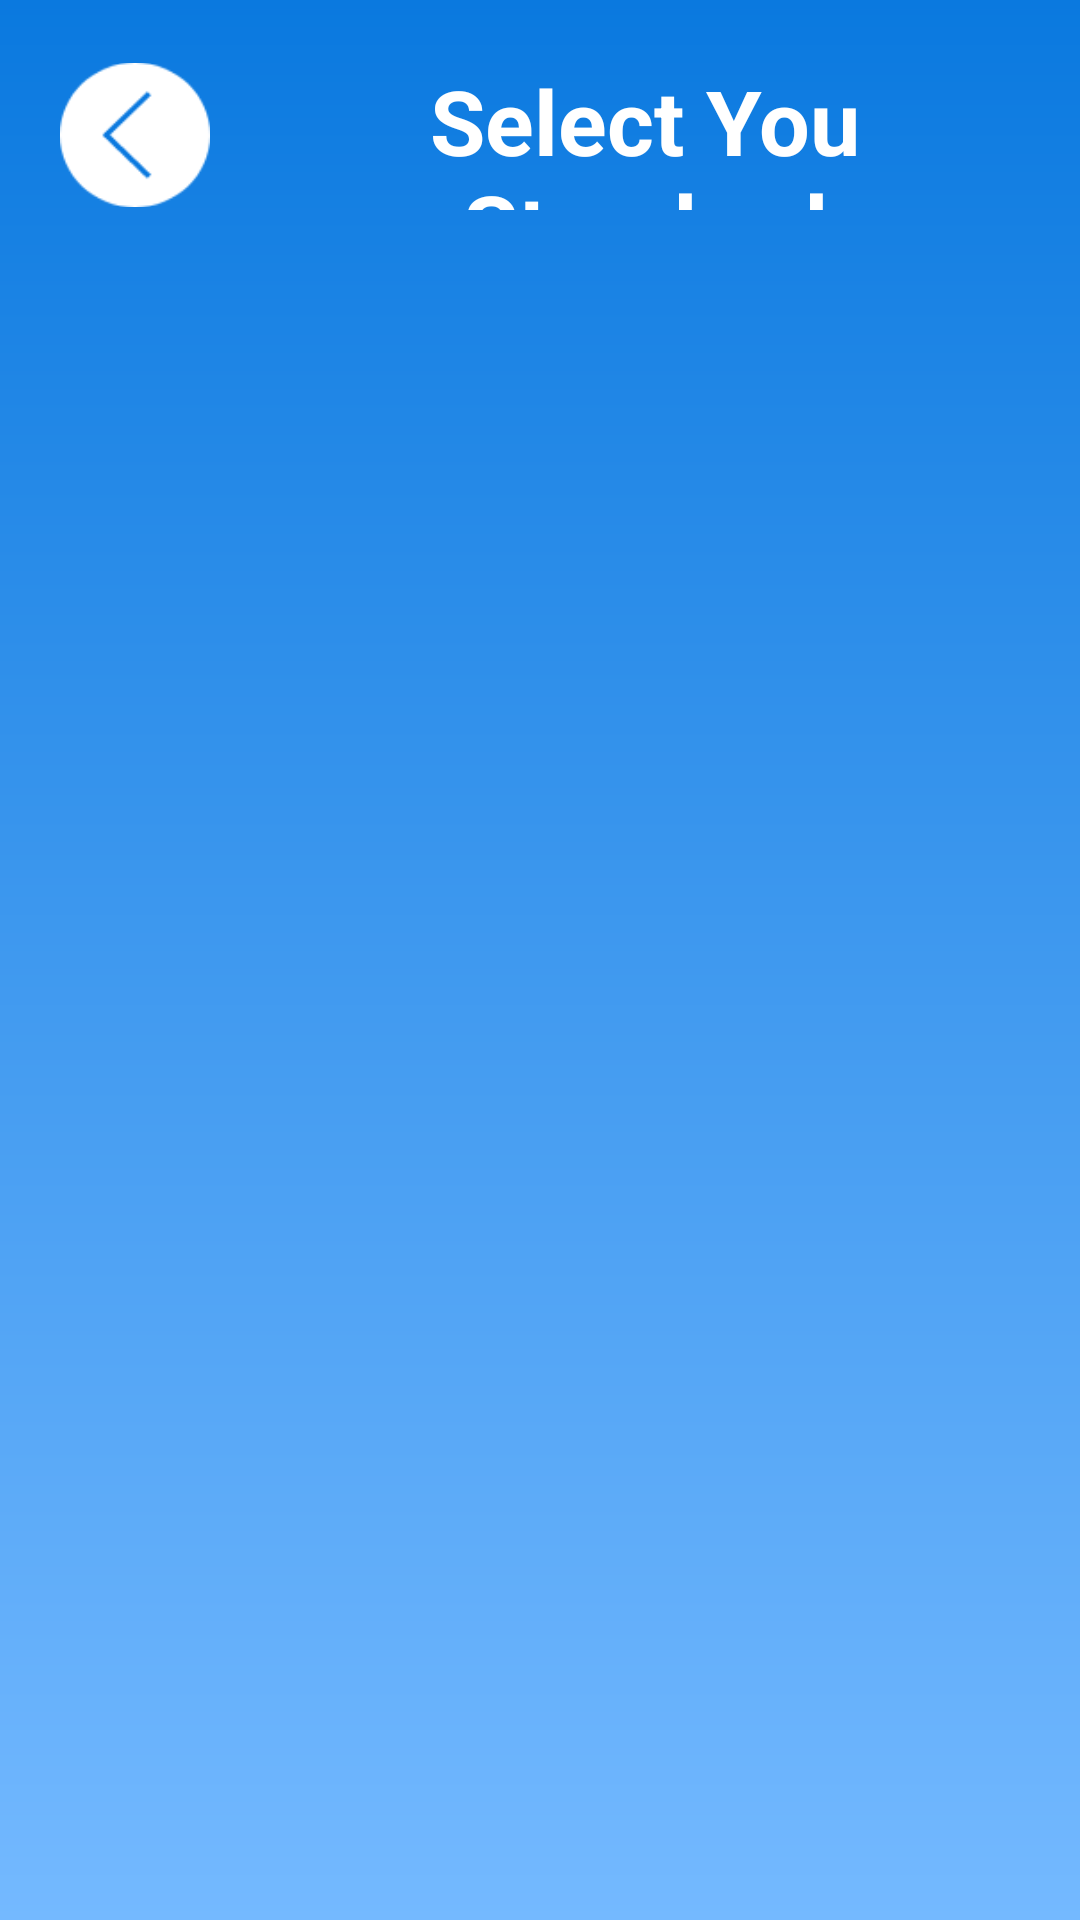

Named icons in this screenshot (1080px x 1920px) and their centers, (x,y):
backiconwhite: (135,135)
